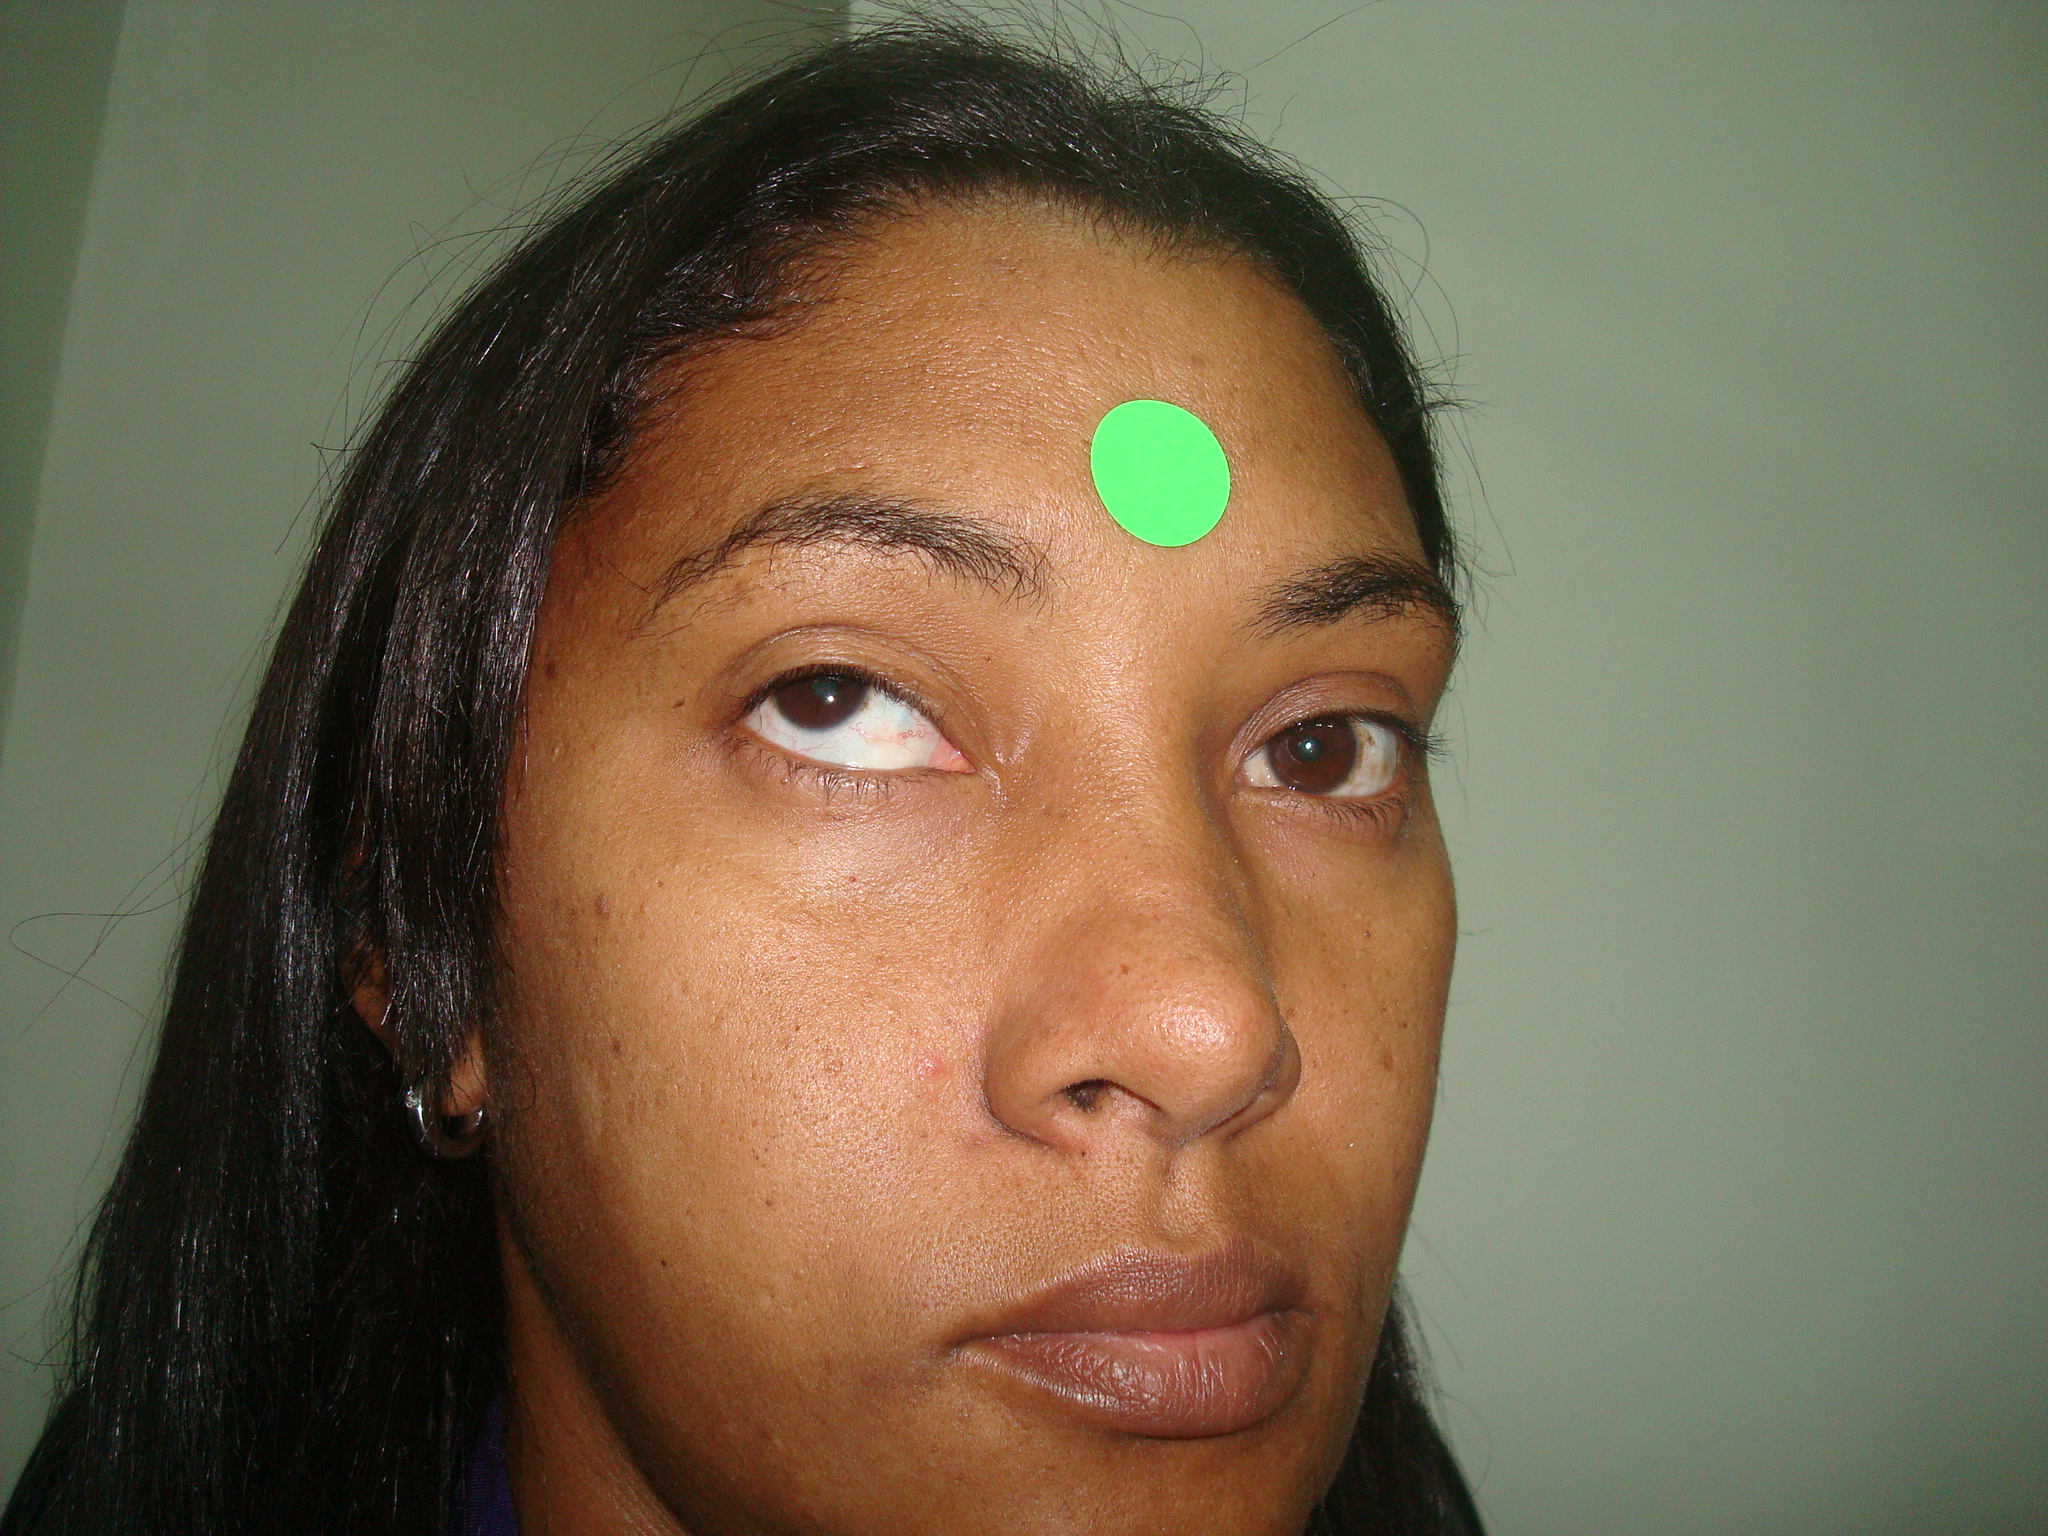flash: (826, 692, 837, 705), (1303, 741, 1314, 752)
limbo: (1261, 710, 1363, 792), (777, 645, 864, 720)
